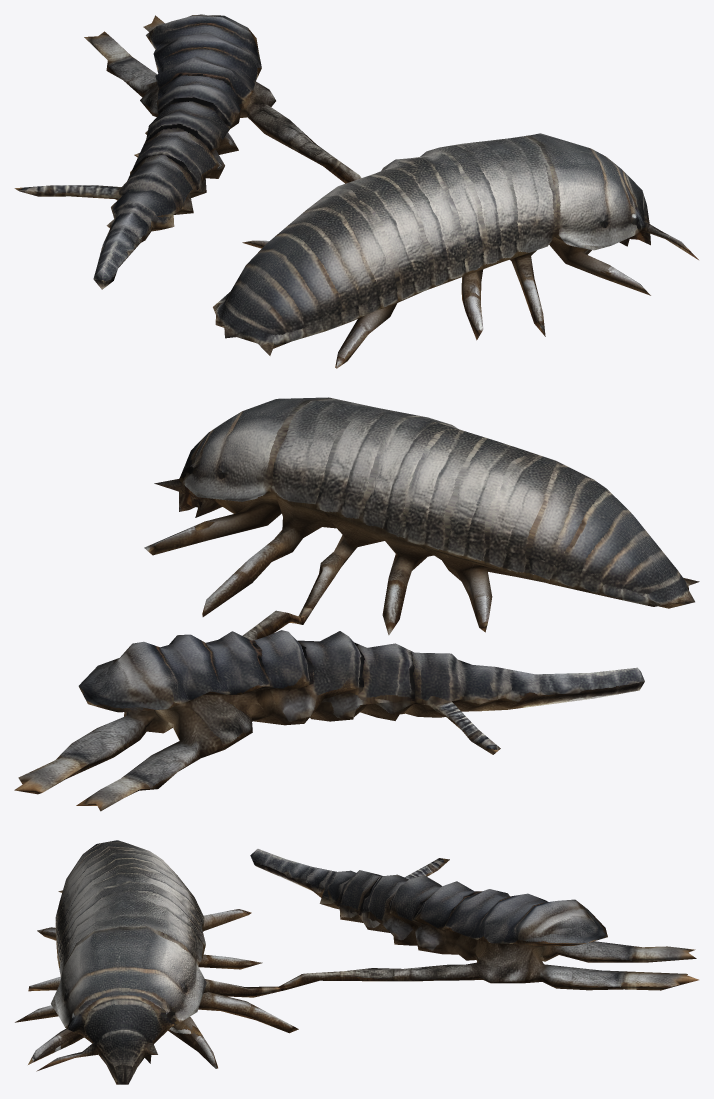
Rendered from silverfish_single_1500.glb.
3 renders of one model, top to bottom at view 1: azimuth 30°, elevation 25°; view 2: azimuth 150°, elevation 25°; view 3: azimuth 270°, elevation 25°, orthographic. The views are drawn at different scales.
Size of the model in its own units: 0.6703 by 0.1872 by 0.9118.
1 material, 1 textured.
